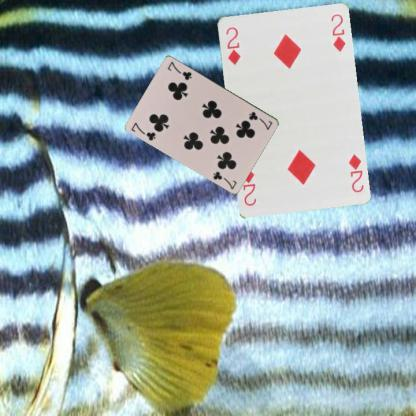2d: (223, 24, 242, 66), (346, 152, 364, 194)
7c: (246, 109, 274, 131), (129, 120, 157, 142)
